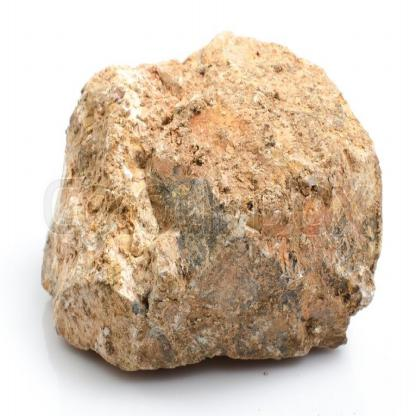Igneous_Basalt: (40, 20, 385, 372)
